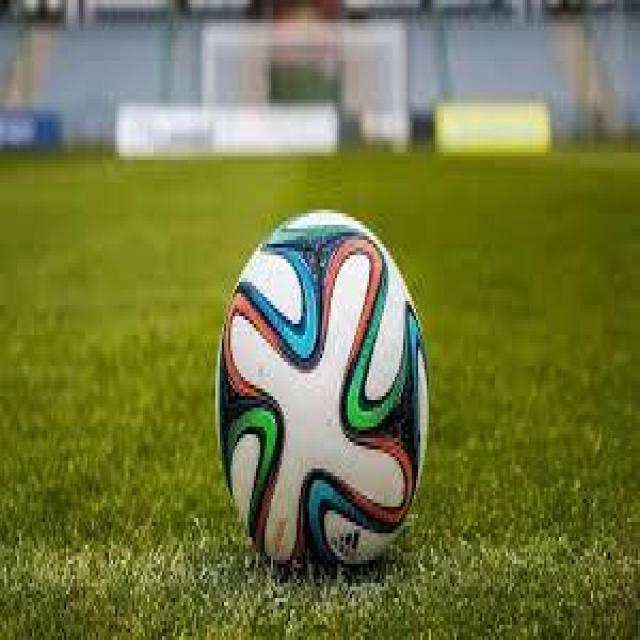Soccer Ball: (219, 209, 426, 572)
